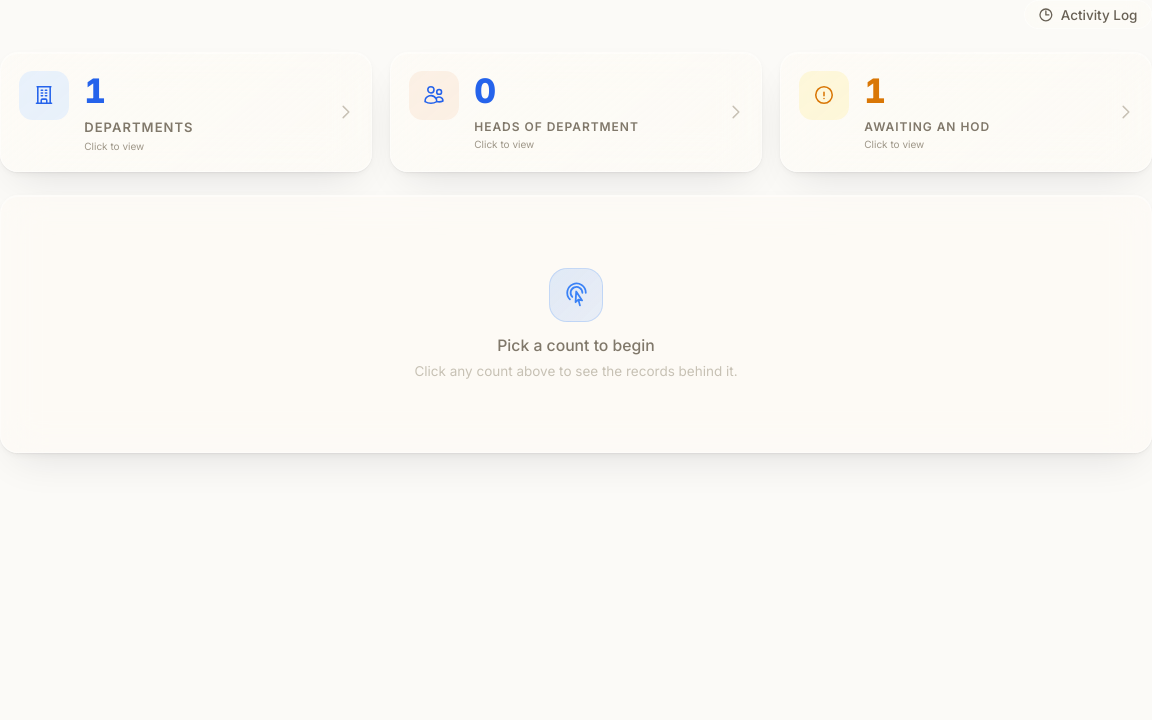
Test: delete department â€” confirmation step › opens a confirmation dialog naming the department and deletes nothing yet
What coordinates should you click on to do the following:
click the button "1 Departments Click to view"
I would click on:
 (44, 95)
Its box is [0,52,372,172].
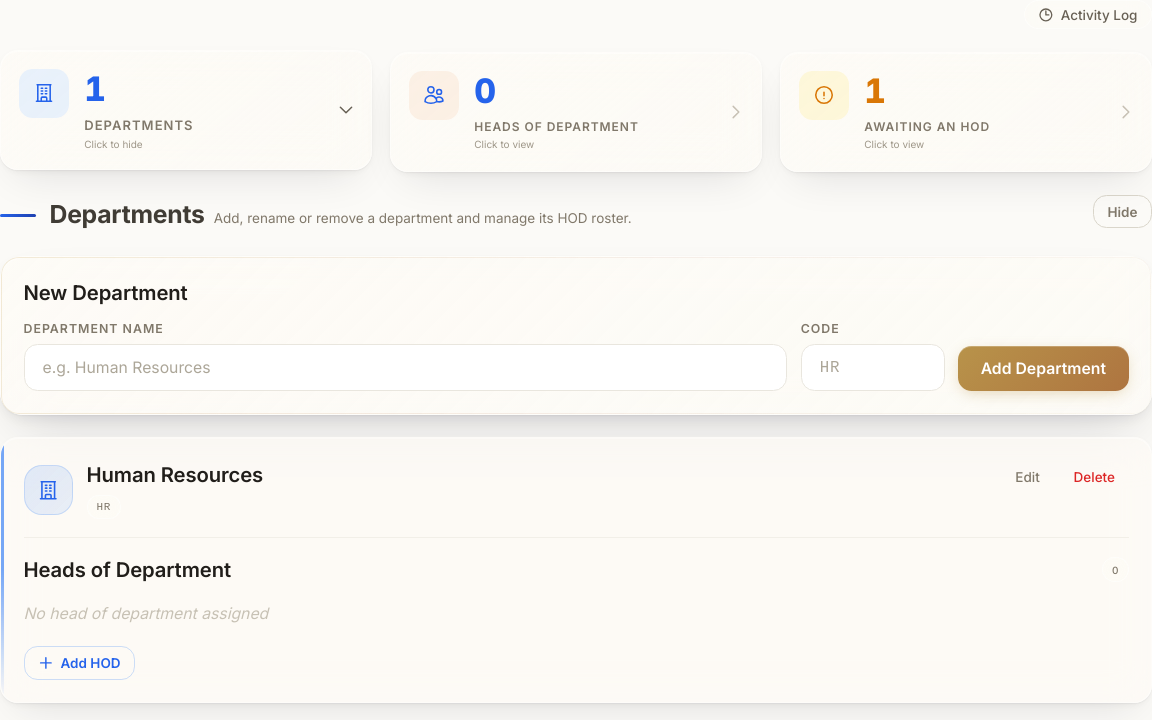
What coordinates should you click on to do the following:
click the button with aria-label "delete human resources"
I would click on:
 (1094, 477)
Its box is [1060,461,1128,492].
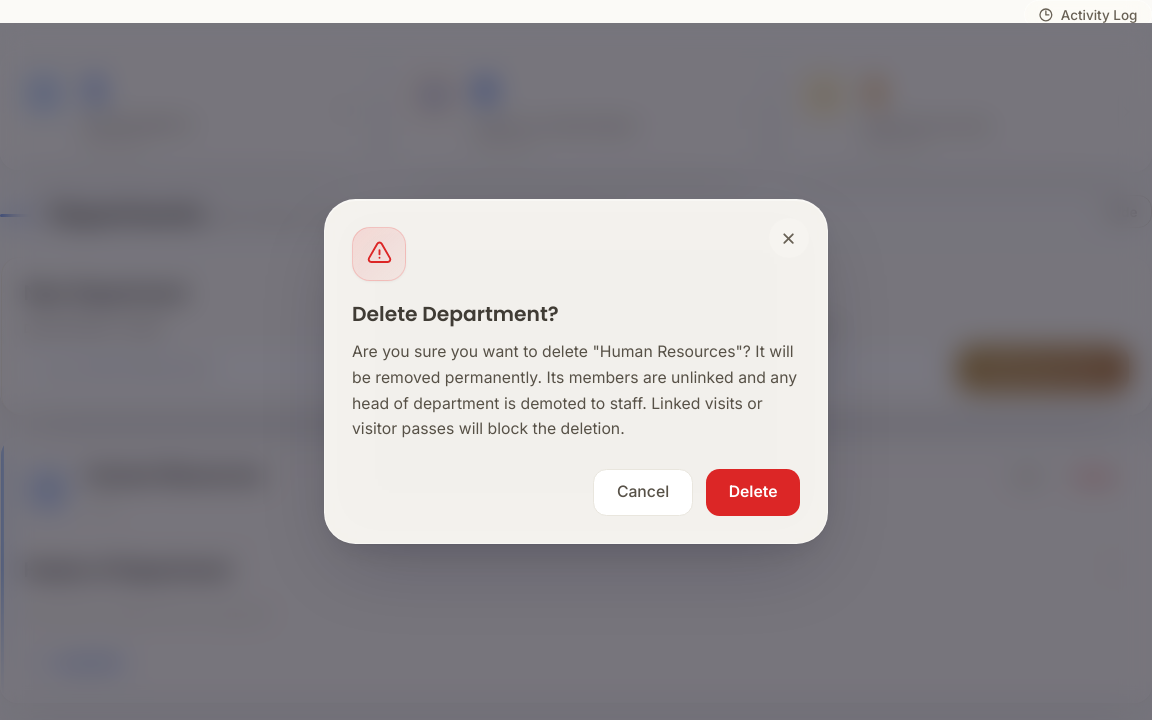
Expected: the heading "Delete Department?" is shown, [352,300,559,328]
Expected: the text "Human Resources" is shown, [352,342,797,438]
Expected: the button "Delete" is shown, [706,469,800,516]
